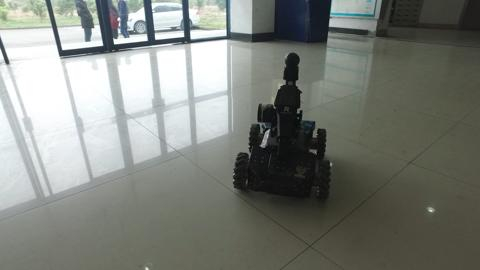car: (116, 1, 201, 35)
chariot: (231, 50, 332, 203)
